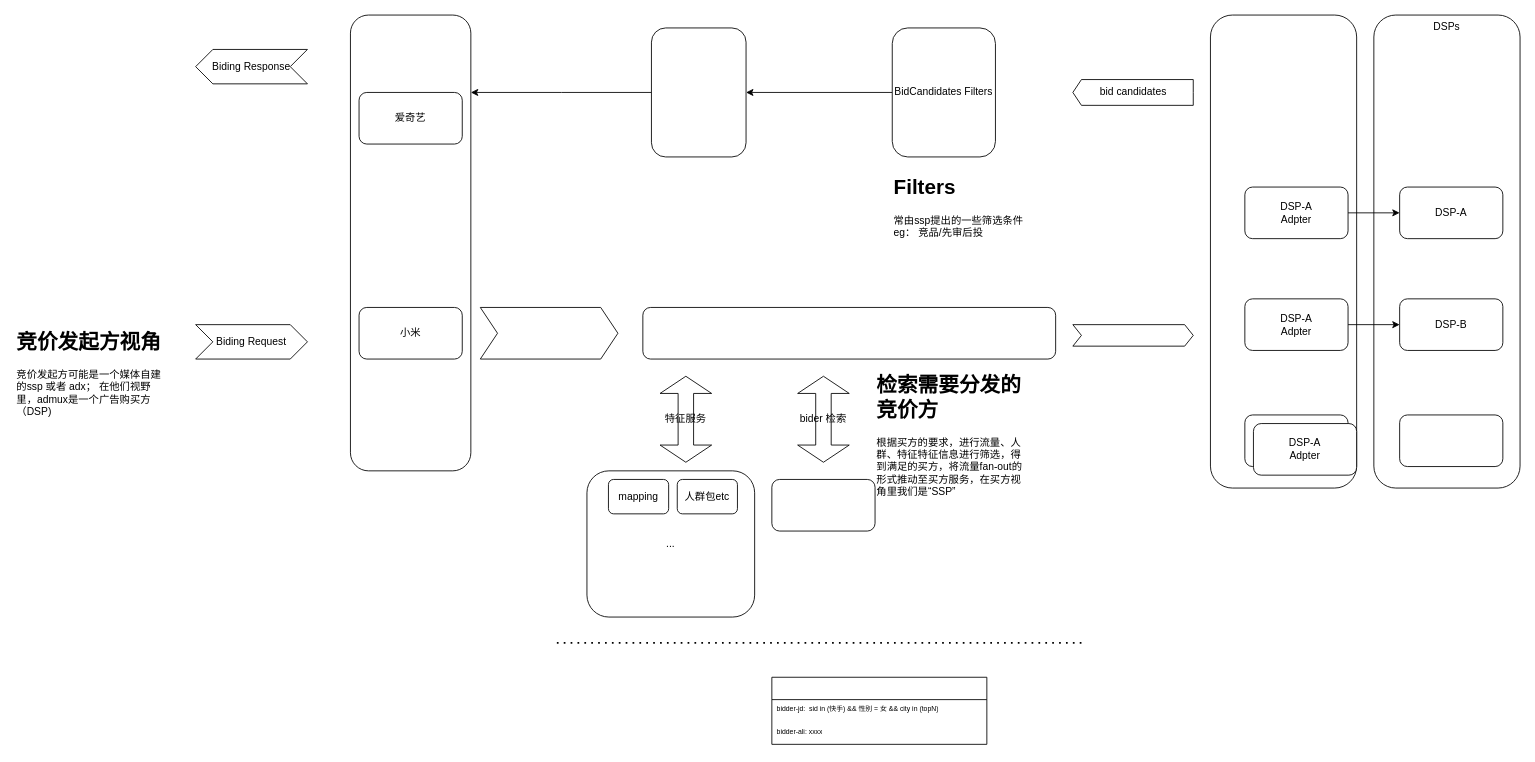
This 1535x762 diagram has some shape labels left out. The box of each missing label's shape, as (x1, y1, x2, y2) in pixels:
bidder indexing data: (771, 676, 987, 744)
DSP-Adapters: (1210, 14, 1357, 488)
DSP-C: (1399, 414, 1503, 467)
fan-out timeout: (1072, 324, 1193, 346)
ranking: (651, 27, 746, 157)
SSP Adapters: (350, 14, 471, 471)
内部标准BIdding协议 OpenRTB: (479, 307, 618, 359)
媒体定向索引: (771, 479, 875, 531)
流量分发: (642, 307, 1056, 359)
